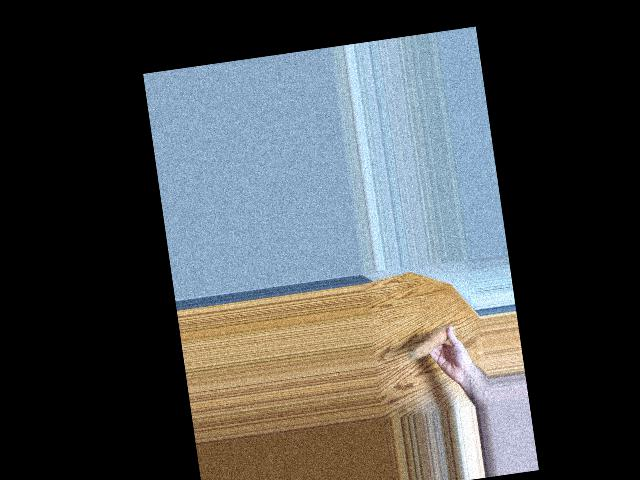sweet_potato: (403, 323, 459, 365)
